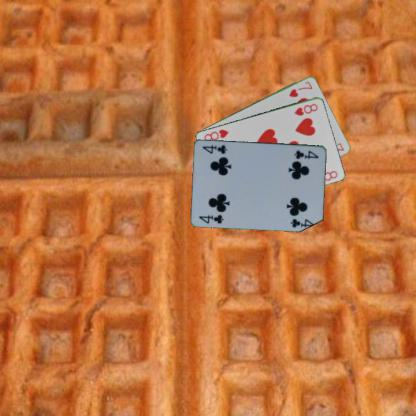4c: (196, 212, 225, 225), (292, 148, 320, 161)
7h: (286, 78, 314, 98)
8h: (292, 101, 319, 116)
